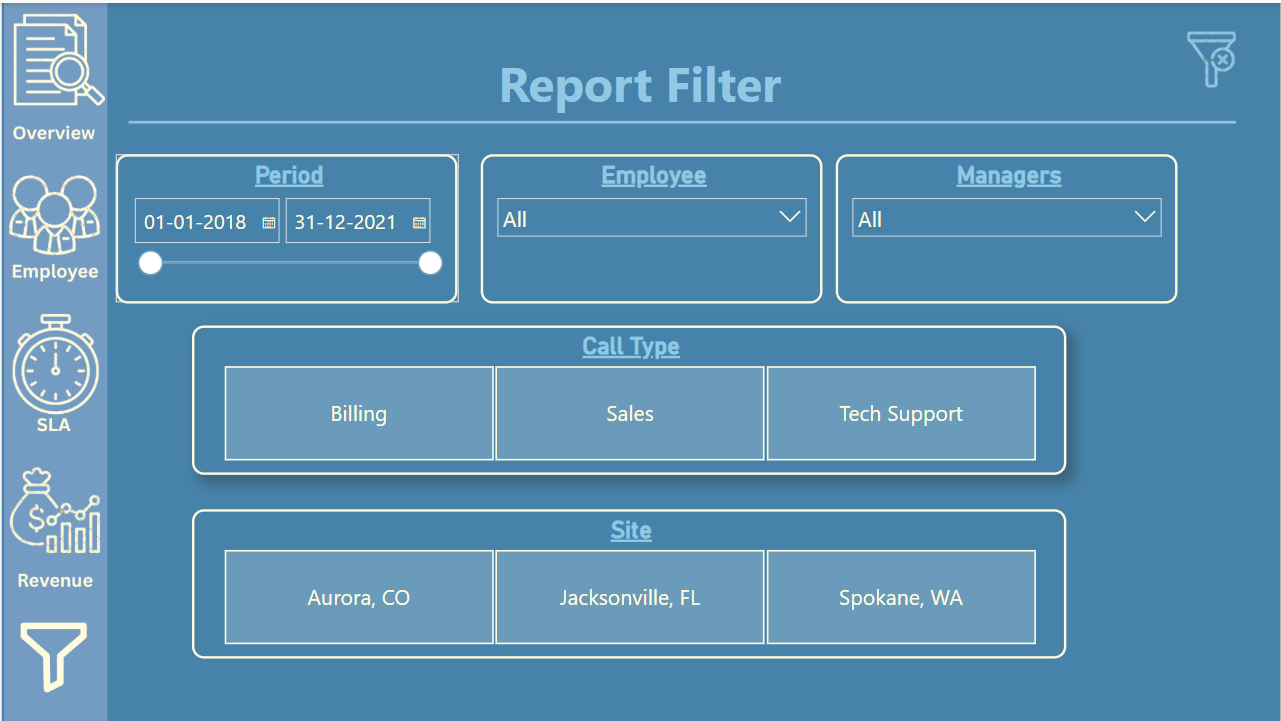

What the dashboard file says about the page in this screenshot:
{"tool":"powerbi","page":{"name":"Filter","canvas":[1280,720],"ordinal":4},"visuals":[{"type":"textbox","box":[479.6,43.2,318.3,77.8],"z":0},{"type":"slicer","title":"Period","fields":{"Values":["Cleaned_callData.CallDate"]},"box":[113.8,151.2,342.8,149.8],"z":1000},{"type":"slicer","title":"Managers","fields":{"Values":["Lookup+Tables.ManagerName"]},"box":[893,151.2,343,150],"z":2000},{"type":"slicer","title":"Employee","fields":{"Values":["Lookup+Tables.EmployeeName"]},"box":[500,150,343,150],"z":3000},{"type":"slicer","title":"Call Type","fields":{"Values":["Cleaned_callData.Call Type"]},"box":[190.1,322.6,875.6,149.8],"z":4000},{"type":"slicer","title":"Site","fields":{"Values":["Lookup+Tables.Site"]},"box":[190.1,506.9,875.6,149.8],"z":5000},{"type":"actionButton","box":[1180,24,65.1,65.1],"z":6000},{"type":"pageNavigator","box":[0,8.5,103,130.8],"z":7000},{"type":"pageNavigator","box":[0,164,103.5,116.3],"z":8000},{"type":"pageNavigator","box":[0,465.4,103.7,123.5],"z":9000},{"type":"pageNavigator","box":[0,306.1,103.5,128],"z":10000}]}

Visuals, with their boxes in screenshot pixels (x1, y1, x2, y2), scaled from the page's 1280x720 canvas onto the 1281x721 screenshot:
textbox: box(480, 43, 799, 121)
"Period" slicer: box(114, 151, 457, 301)
"Managers" slicer: box(894, 151, 1237, 302)
"Employee" slicer: box(500, 150, 844, 300)
"Call Type" slicer: box(190, 323, 1067, 473)
"Site" slicer: box(190, 508, 1067, 658)
actionButton: box(1181, 24, 1246, 89)
pageNavigator: box(0, 9, 103, 139)
pageNavigator: box(0, 164, 104, 281)
pageNavigator: box(0, 466, 104, 590)
pageNavigator: box(0, 307, 104, 435)
